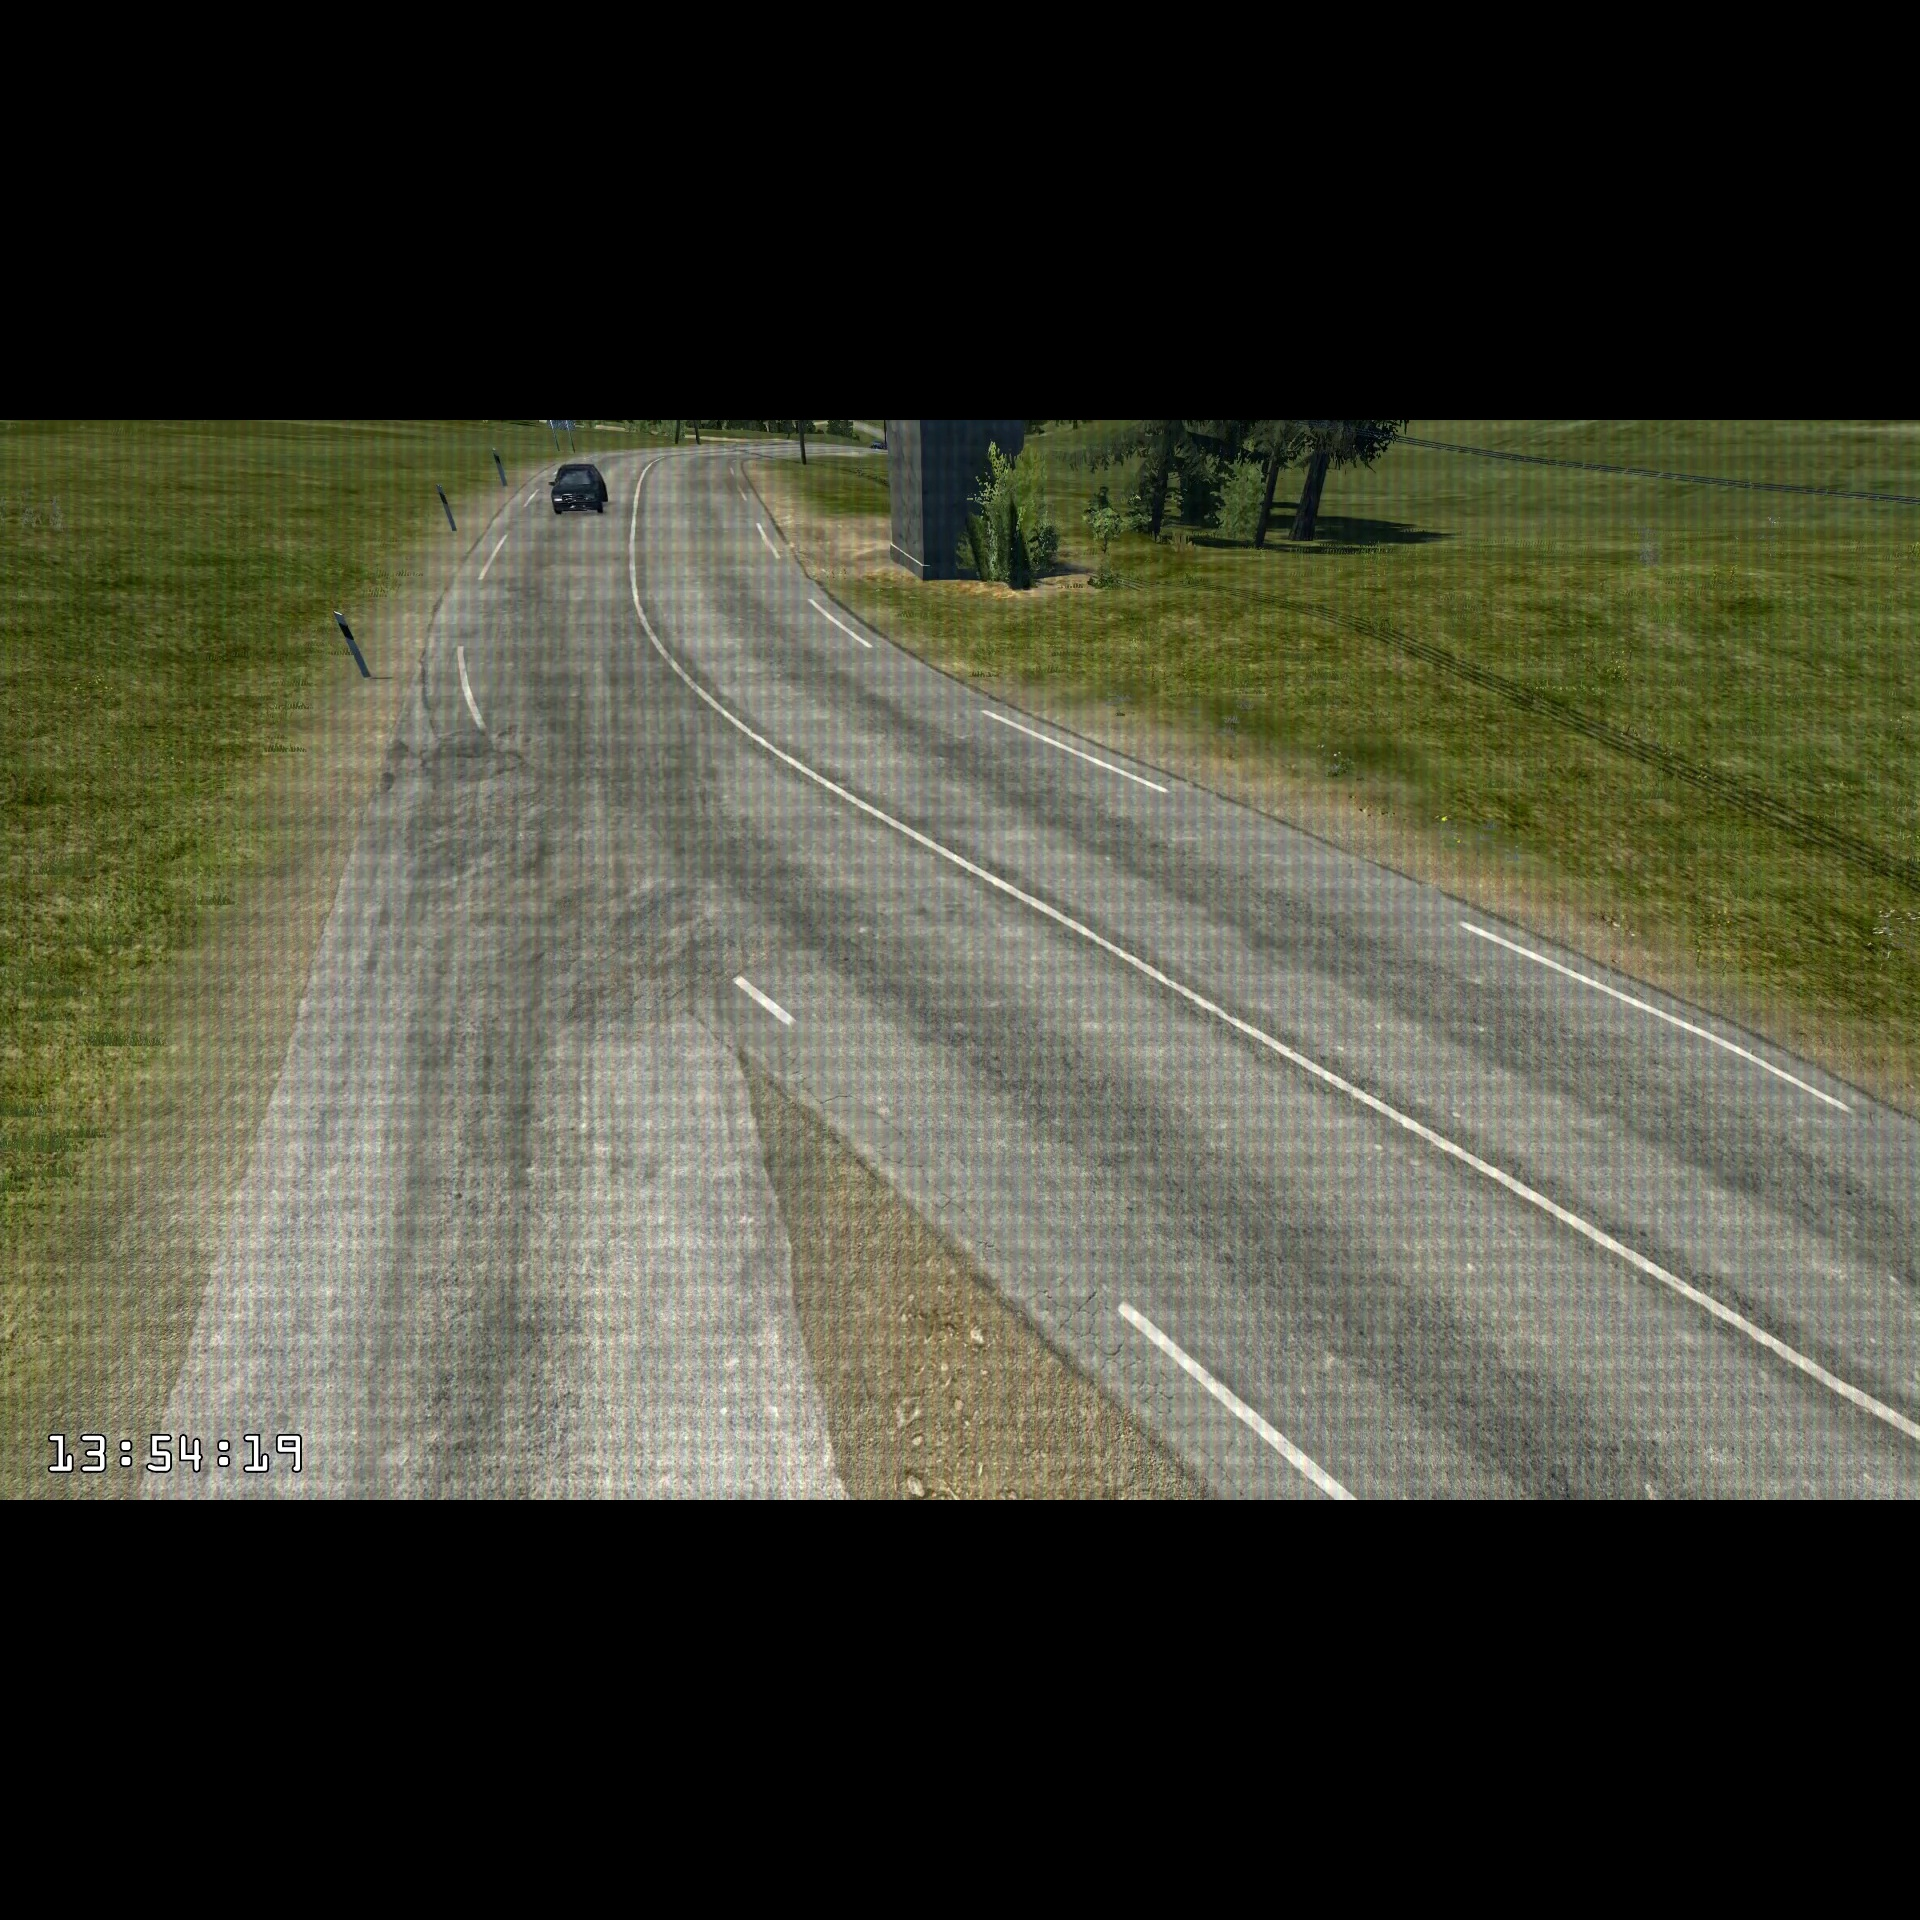vehicle: (543, 461, 612, 520)
